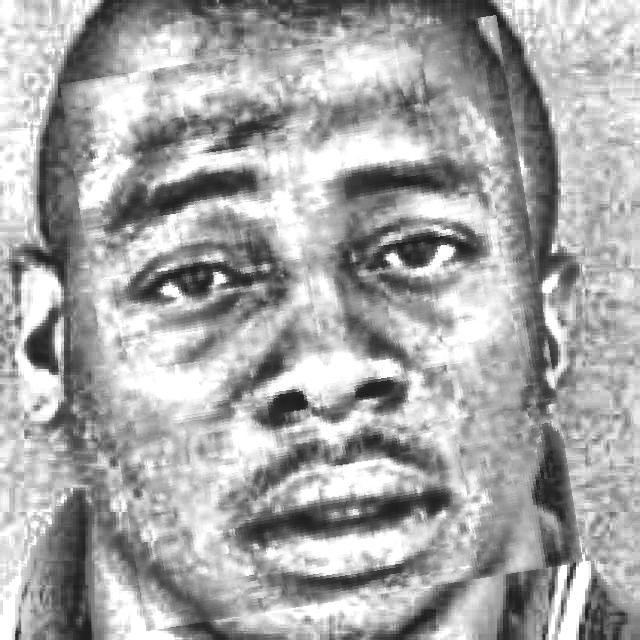sad: (81, 30, 563, 616)
